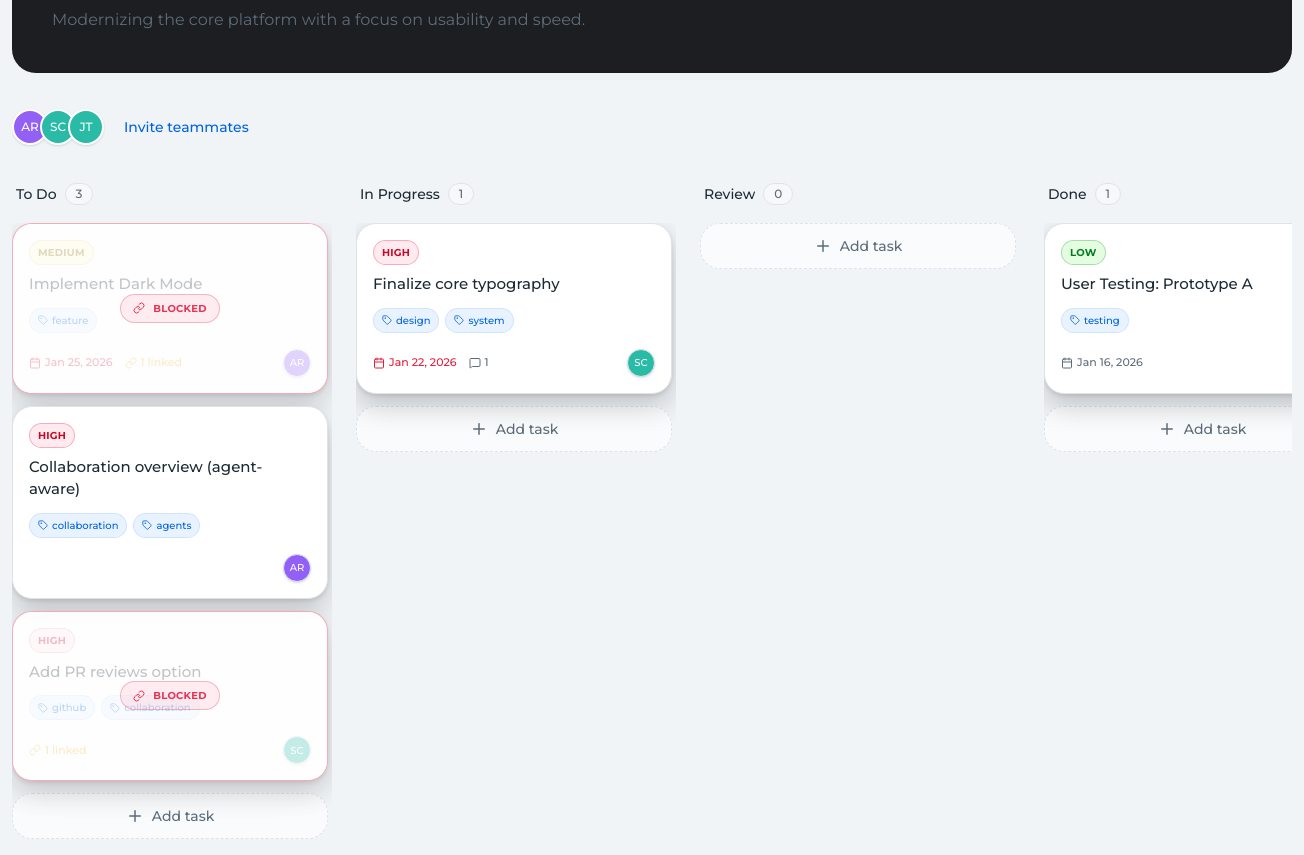
Test case: KanbanView buttons › "Add task" button shows the task input form
(page scrolled)
Click the button "Add task" below "github" at (170, 816), box [12,793,328,839]
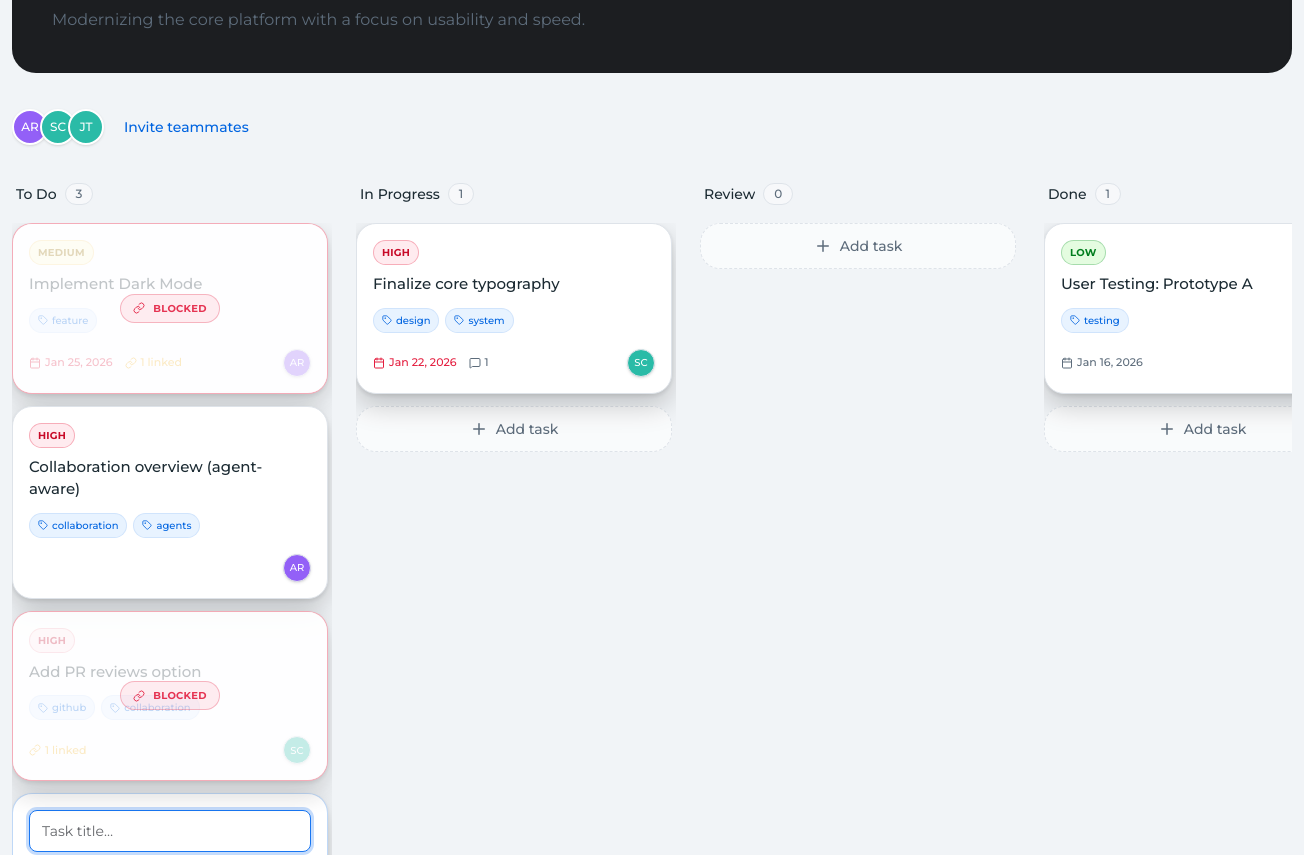
Now the field with placeholder "Task title…" is shown, box [29,810,311,852]
